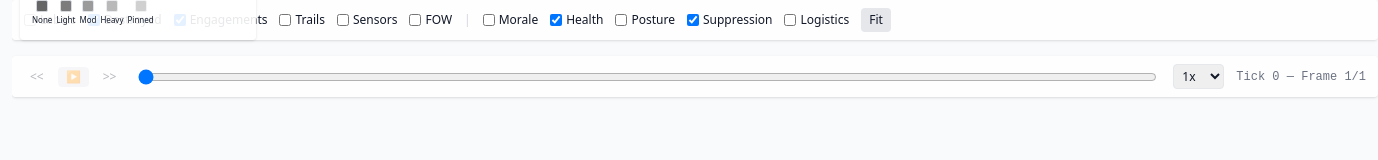
FOW Toggle › shows side selector when FOW is active
Click the checkbox labelled "FOW" at x=415, y=20, box [409,14,421,26]
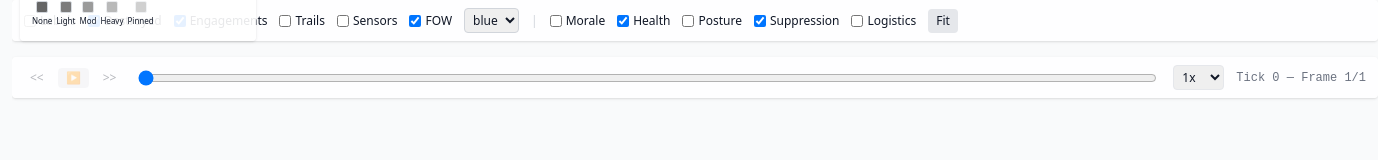
Expected: the dropdown named "FOW side" is shown, [464,8,519,33]
